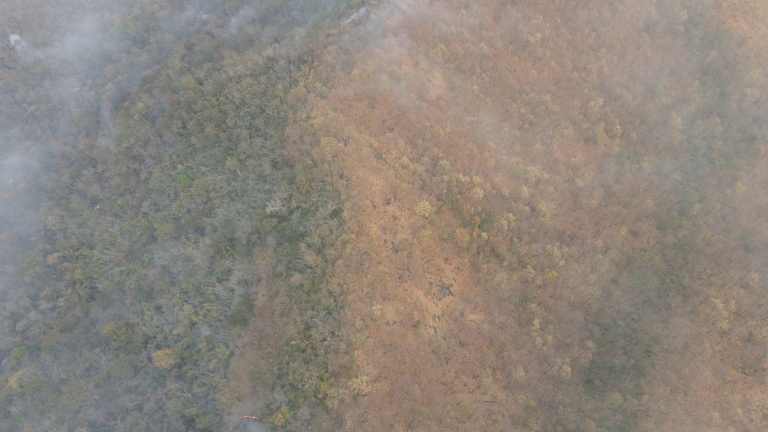fire: (231, 409, 268, 423)
smoke: (1, 1, 243, 242), (299, 4, 473, 108), (4, 248, 93, 432), (214, 380, 282, 432)
